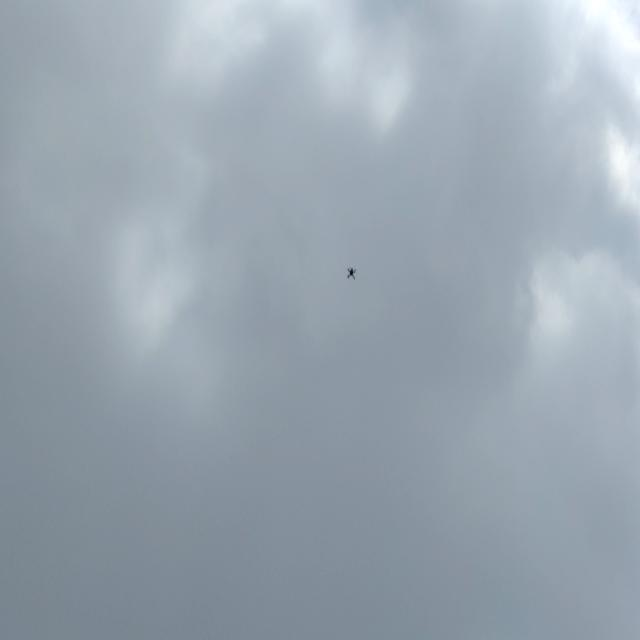drone: (344, 260, 361, 286)
